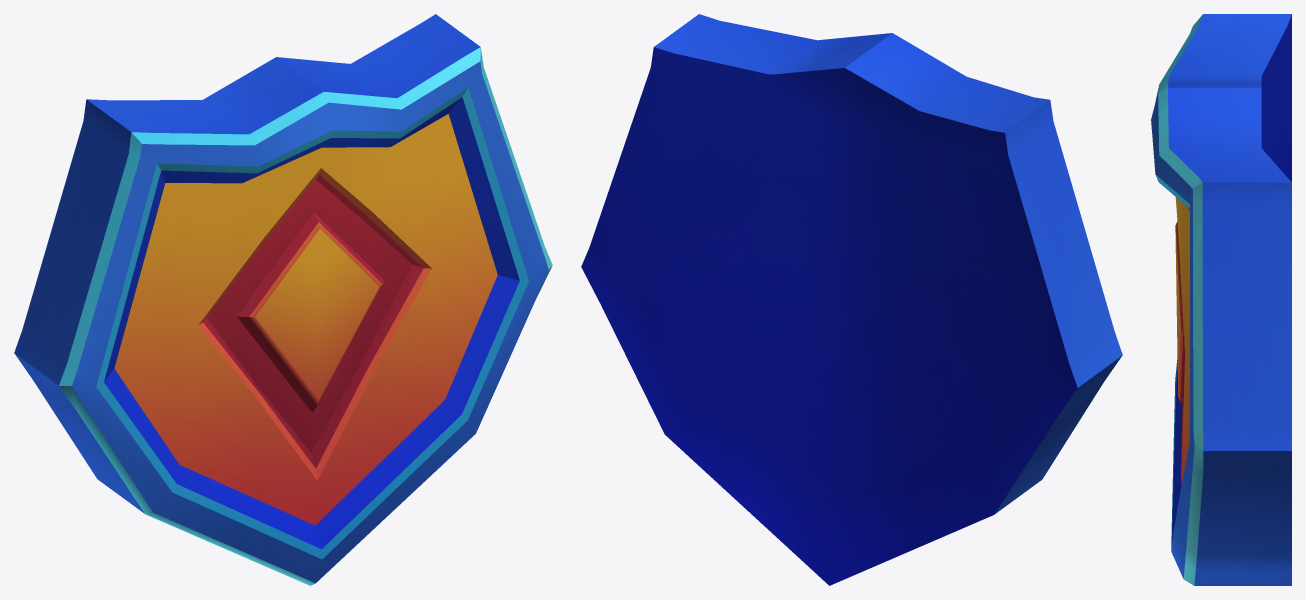
Rendered from shield_PowerUp.fbx.
3 renders of one model, left to right at view 1: azimuth 30°, elevation 25°; view 2: azimuth 150°, elevation 25°; view 3: azimuth 270°, elevation 25°, orthographic.
Visible parts, largest first — view 1: pCube1; view 2: pCube1; view 3: pCube1.
Boxes of the visible parts, x1,y1,x2,y2 form: pCube1: [14, 14, 552, 585]; pCube1: [581, 14, 1122, 585]; pCube1: [1151, 14, 1291, 585].
Size of the model in its own units: 116 by 113 by 29.
